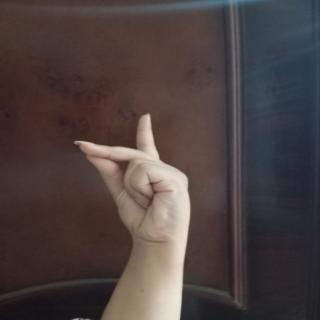TAA: (64, 106, 216, 258)
